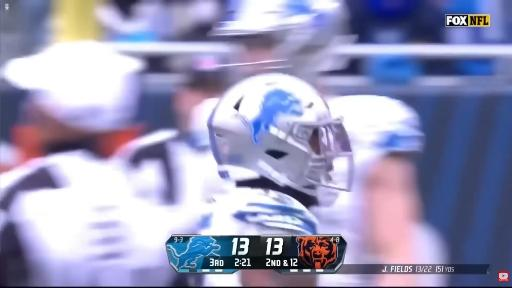Helmet: (208, 73, 352, 195), (212, 0, 356, 79)
Jersey: (202, 188, 317, 235)
Player: (202, 73, 351, 235), (315, 95, 446, 264), (211, 0, 356, 88)
